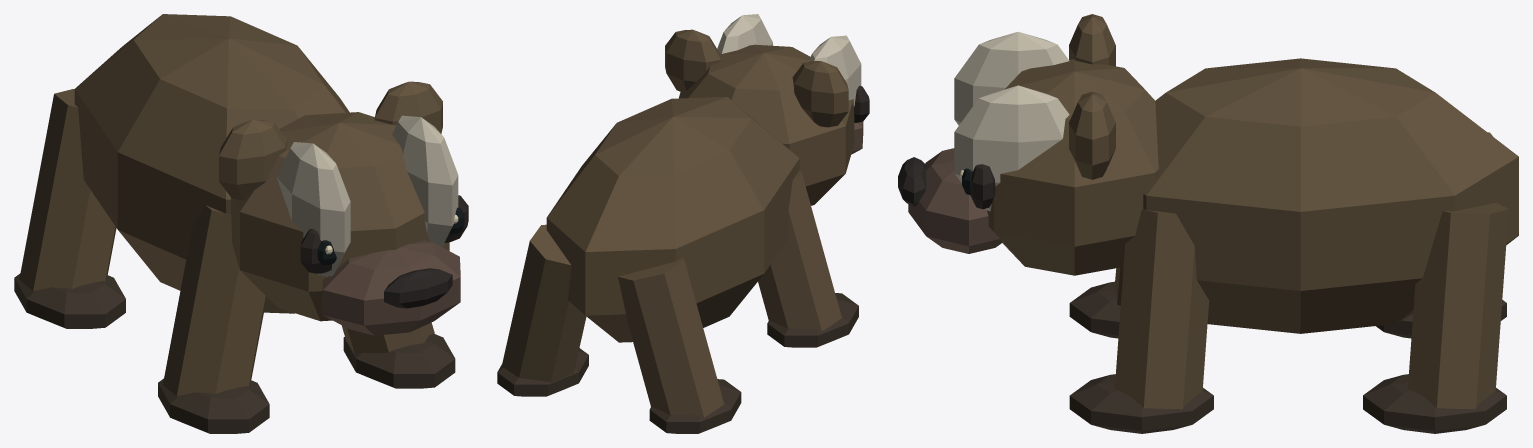
File: fauna-moss_badger.glb
3 renders of one model, left to right at view 1: azimuth 30°, elevation 25°; view 2: azimuth 150°, elevation 25°; view 3: azimuth 270°, elevation 25°, orthographic. The views are drawn at different scales.
Visible parts, largest first — view 1: Fauna_moss_badger; view 2: Fauna_moss_badger; view 3: Fauna_moss_badger.
Boxes of the visible parts, x1,y1,x2,y2 form: Fauna_moss_badger: (14, 14, 468, 433); Fauna_moss_badger: (497, 14, 869, 433); Fauna_moss_badger: (898, 14, 1518, 433).
Bounding box in the file's own units: 0.9118 × 1.01 × 1.76.
